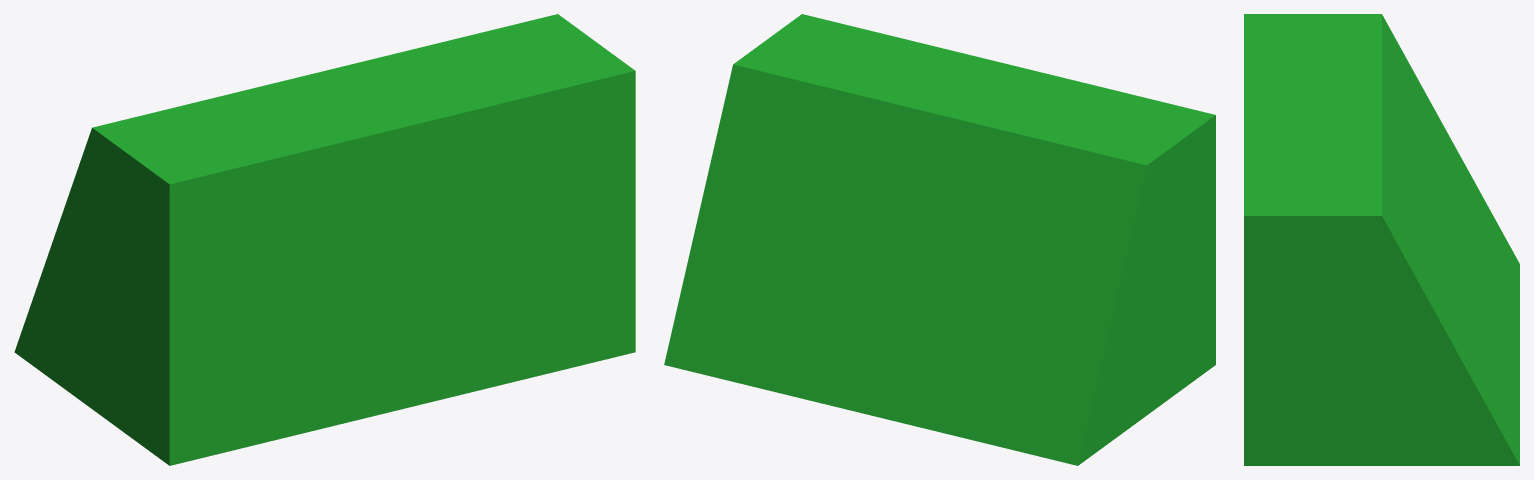
The model's file is cliff-left_edge.glb.
3 renders of one model, left to right at view 1: azimuth 30°, elevation 25°; view 2: azimuth 150°, elevation 25°; view 3: azimuth 270°, elevation 25°, orthographic. The views are drawn at different scales.
Visible parts, largest first — view 1: cliff-left_edge; view 2: cliff-left_edge; view 3: cliff-left_edge.
Boxes of the visible parts, left/top/right/bottom form: cliff-left_edge: left=14, top=14, right=635, bottom=465; cliff-left_edge: left=664, top=14, right=1215, bottom=465; cliff-left_edge: left=1244, top=14, right=1519, bottom=465.
Size of the model in its own units: 0.866 by 0.5 by 0.5.
